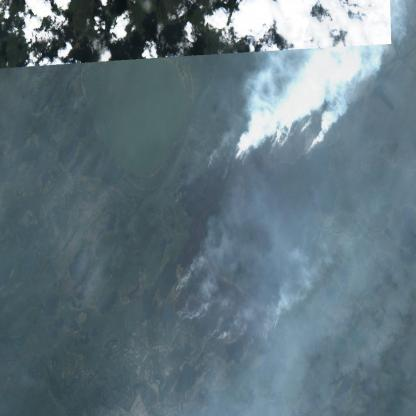fire: (201, 102, 339, 188), (170, 257, 285, 352)
